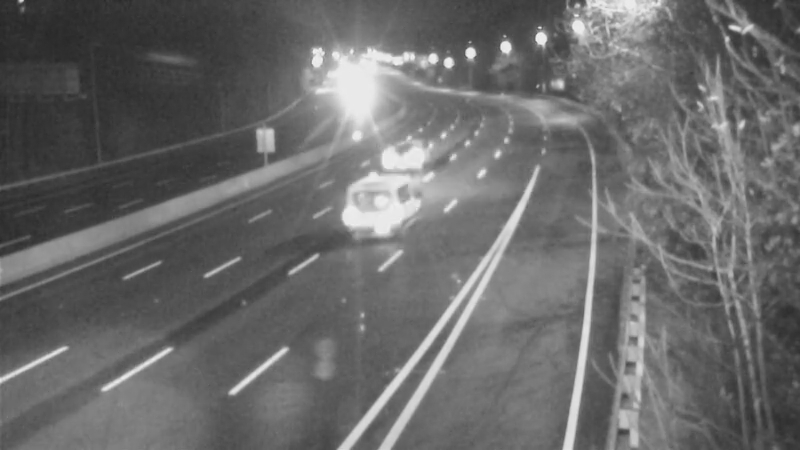vehicle: (374, 123, 454, 203), (342, 158, 422, 238)
